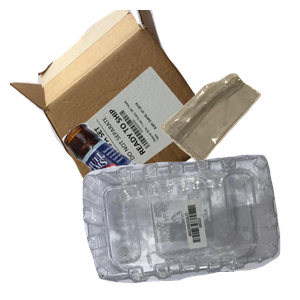cardboard: (10, 10, 227, 190)
glass: (60, 120, 300, 300)
plastic: (80, 152, 300, 300)
trash: (158, 71, 300, 227)
